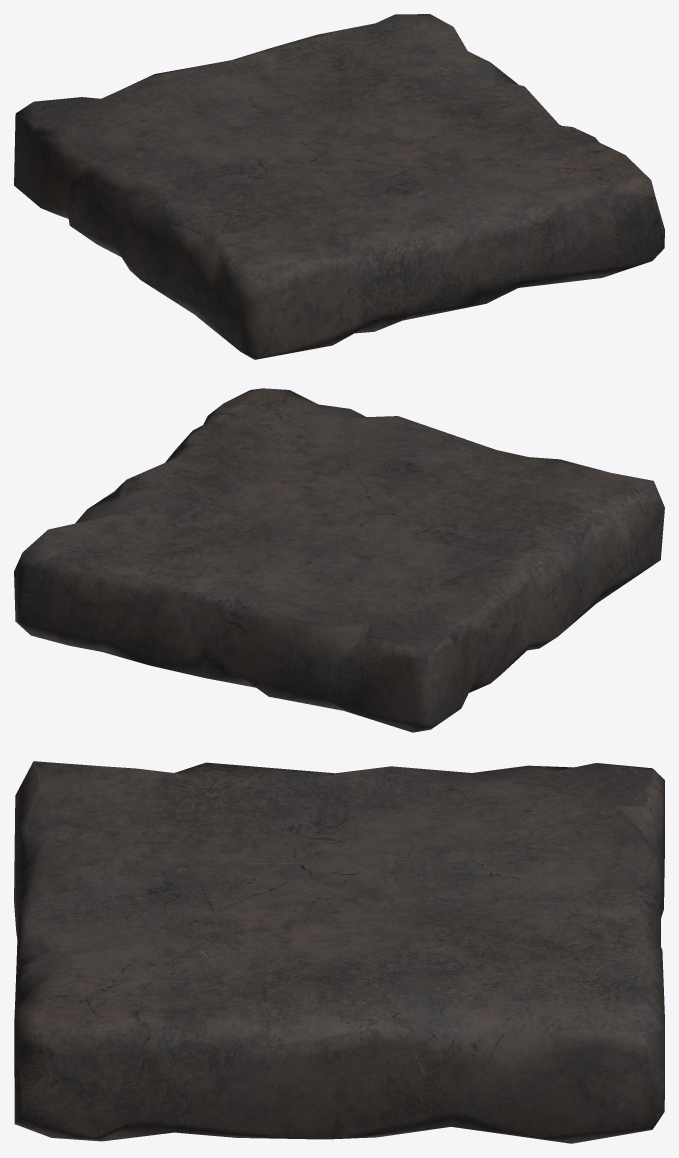
The model's file is SM_Slab3.fbx.
3 views of the same model, one above another, from view 1: azimuth 30°, elevation 25°; view 2: azimuth 150°, elevation 25°; view 3: azimuth 270°, elevation 25° (orthographic). The views are drawn at different scales.
Visible parts, largest first — view 1: SM_Slab3_LOD0; view 2: SM_Slab3_LOD0; view 3: SM_Slab3_LOD0.
Boxes of the visible parts, x1=… form: SM_Slab3_LOD0: x1=14, y1=14, x2=664, y2=359; SM_Slab3_LOD0: x1=14, y1=388, x2=664, y2=732; SM_Slab3_LOD0: x1=14, y1=761, x2=664, y2=1143.
Bounding box in the file's own units: 150 × 150 × 30.2.
Materials: 1 (1 with a texture image).
